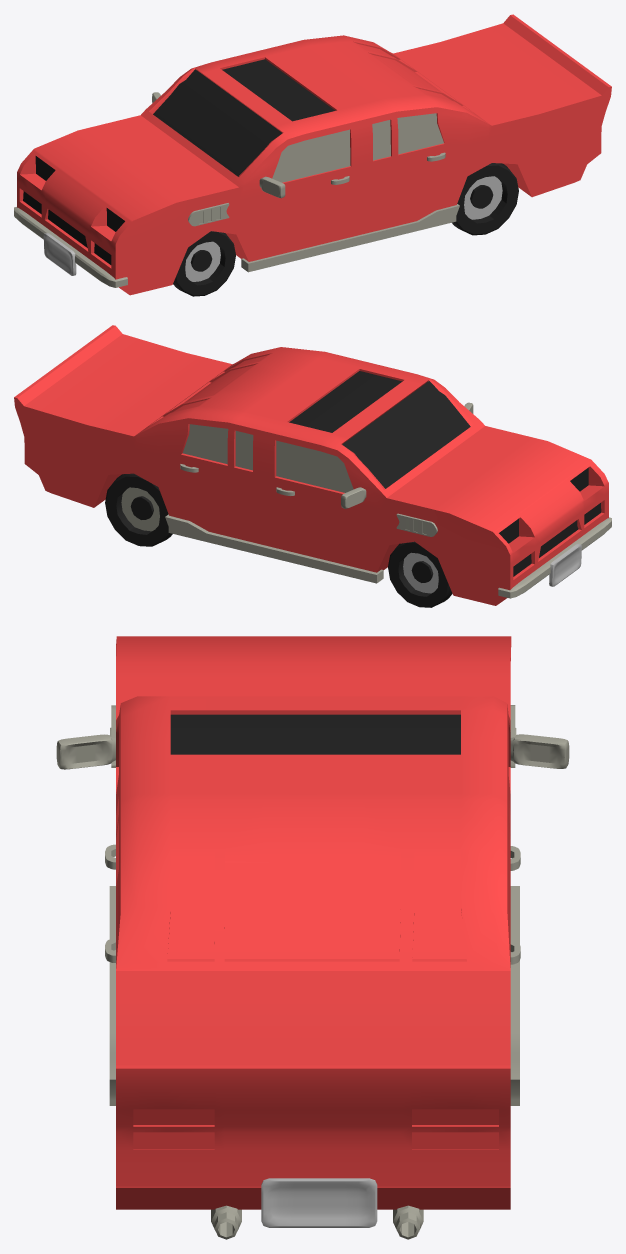
The model's file is Rammer 225 (Large).fbx.fbx.
3 renders of one model, top to bottom at view 1: azimuth 30°, elevation 25°; view 2: azimuth 150°, elevation 25°; view 3: azimuth 270°, elevation 25°, orthographic. The views are drawn at different scales.
Parts seen in each view (by area): view 1: Box, Plane_10, Plane_07, Cylinder, Plane_11, Cylinder_01, Box_03, Box_12, Box_05, Plane, Plane_05, Box_09 (+1 smaller); view 2: Box, Plane_10, Plane_06, Cylinder_02, Plane_11, Cylinder_03, Box_02, Box_12, Box_05, Plane_05, Plane, Box_08 (+1 smaller); view 3: Box, Plane_05, Plane_11, Box_04, Plane_03, Plane_04, Box_02, Box_06, Box_07, Box_03, Cylinder_04, Cylinder_05.
Boxes of the visible parts, x1,y1,x2,y2 form: Box: (17, 14, 611, 295); Plane_10: (153, 69, 281, 176); Plane_07: (272, 113, 443, 182); Cylinder: (452, 163, 518, 235); Plane_11: (222, 59, 335, 121); Cylinder_01: (173, 231, 235, 296); Box_03: (241, 204, 459, 272); Box_12: (14, 207, 127, 287); Box_05: (43, 233, 76, 275); Plane: (23, 191, 111, 264); Plane_05: (358, 44, 451, 100); Box_09: (188, 203, 229, 226); Box: (14, 325, 608, 605); Plane_10: (342, 381, 470, 488); Plane_06: (183, 424, 353, 492); Cylinder_02: (105, 473, 172, 546); Plane_11: (289, 371, 402, 432); Cylinder_03: (388, 541, 452, 607); Box_02: (165, 514, 383, 583); Box_12: (498, 517, 611, 598); Box_05: (549, 544, 581, 586); Plane_05: (172, 355, 266, 412); Plane: (513, 503, 601, 576); Box_08: (396, 513, 437, 536); Box: (116, 636, 511, 1209); Plane_05: (167, 863, 466, 958); Plane_11: (170, 714, 460, 754); Box_04: (261, 1178, 377, 1227); Plane_03: (133, 1125, 498, 1149); Plane_04: (133, 1109, 498, 1124); Box_02: (510, 886, 519, 1105); Box_06: (56, 734, 115, 769); Box_07: (510, 734, 569, 768); Box_03: (109, 886, 115, 1105); Cylinder_04: (393, 1205, 423, 1239); Cylinder_05: (211, 1205, 241, 1239).
Size of the model in its own units: 71.45 by 20.92 by 31.41.
